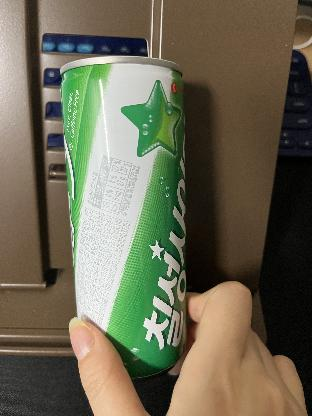Can: (59, 54, 185, 381)
